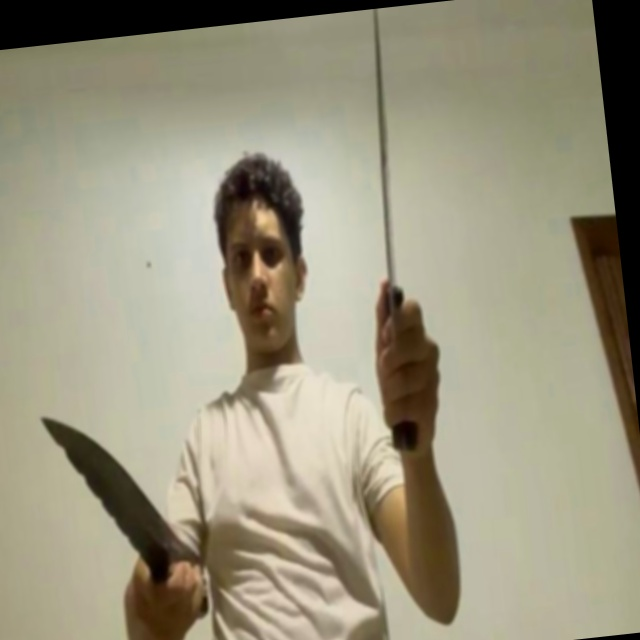Sharp-Object: (43, 407, 189, 575), (359, 23, 413, 328)
